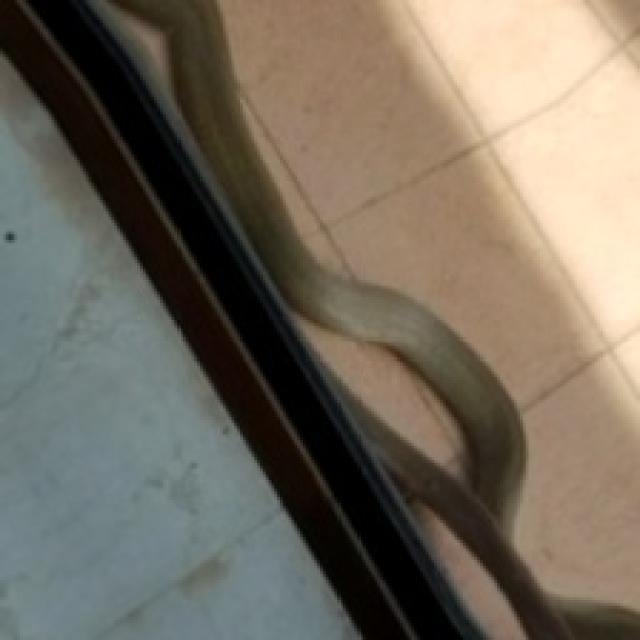king cobra: (0, 0, 637, 637), (97, 0, 637, 637), (294, 303, 477, 489)
